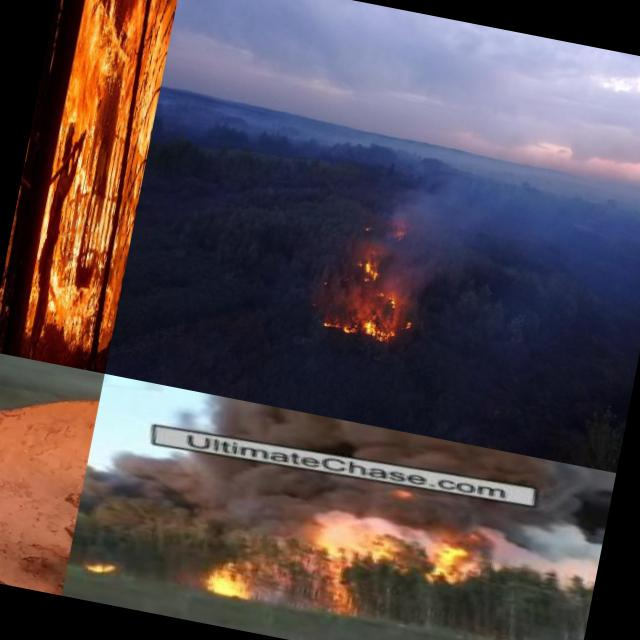fire: (302, 521, 398, 626), (325, 256, 425, 348), (62, 0, 128, 125), (58, 125, 104, 274), (129, 23, 172, 147), (41, 270, 102, 348), (103, 12, 145, 97), (192, 556, 264, 605), (76, 186, 114, 277), (417, 531, 472, 586), (33, 172, 60, 270), (98, 262, 124, 344), (84, 551, 126, 579)
smoke: (89, 438, 429, 542), (376, 168, 479, 302), (464, 503, 606, 591), (118, 484, 317, 545)
